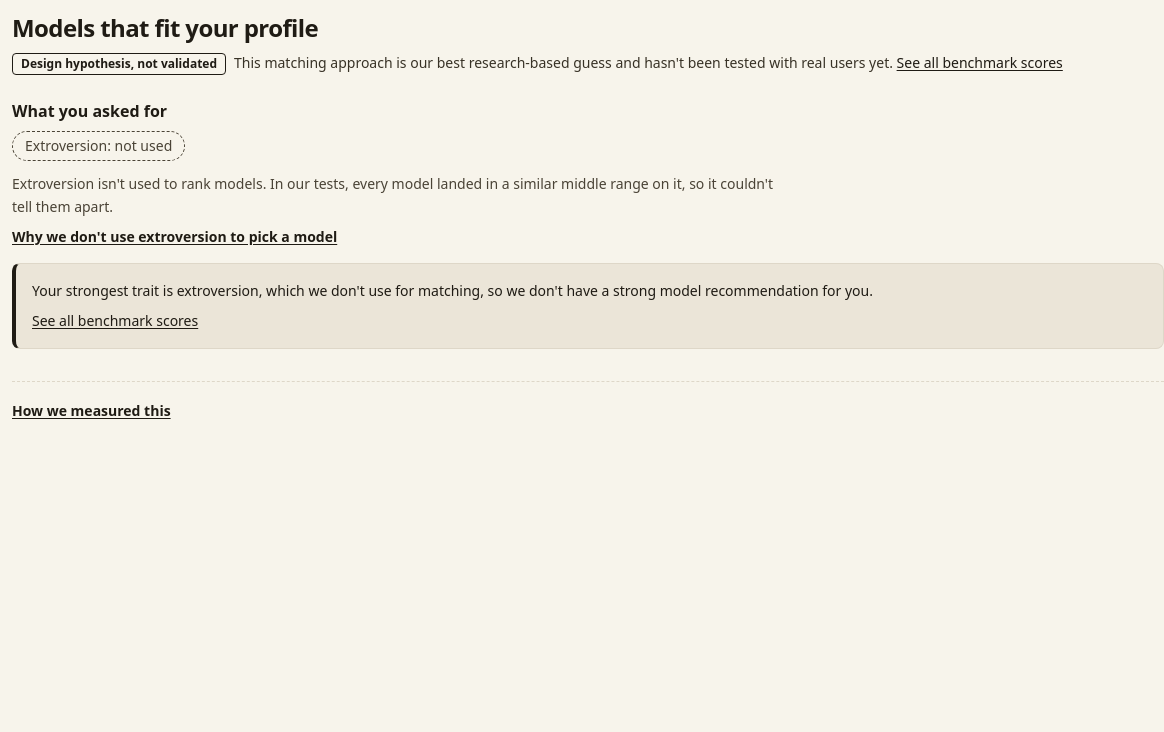
Test: states from the samples › shows Charlie's extroversion copy and no cards when that is the only target
Check: the text "Extroversion: not used" is shown, box [25,136,172,156]
Check: the text "Extroversion isn't used to rank models. In our tests, every model landed in a similar middle range on it, so it couldn't" is shown, box [12,174,773,216]
Click the button "Why we don't use extroversion to pick a model" at coordinates (175, 237), box [12,227,337,247]
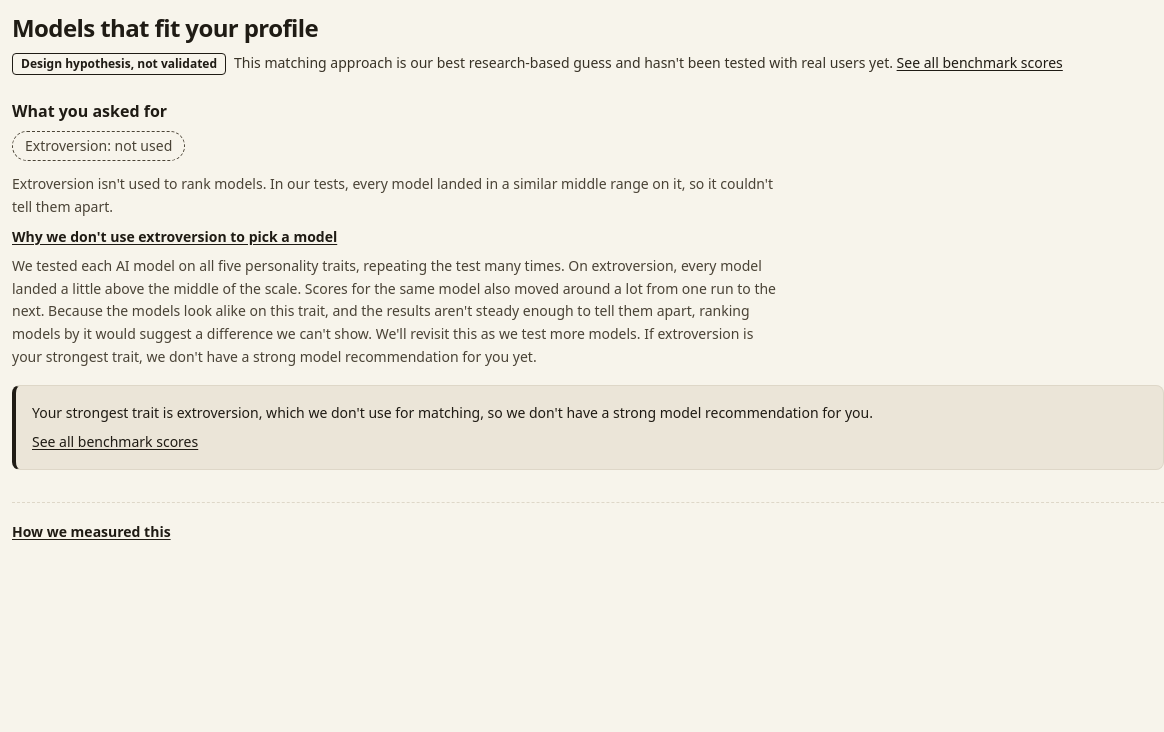
Check: the text "We tested each AI model on all five personality traits, repeating the test many times. On extroversion, every model land" is shown, box [12,256,776,366]
